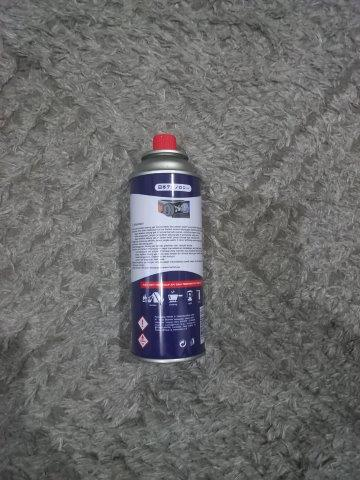kaleng: (126, 134, 206, 360)
